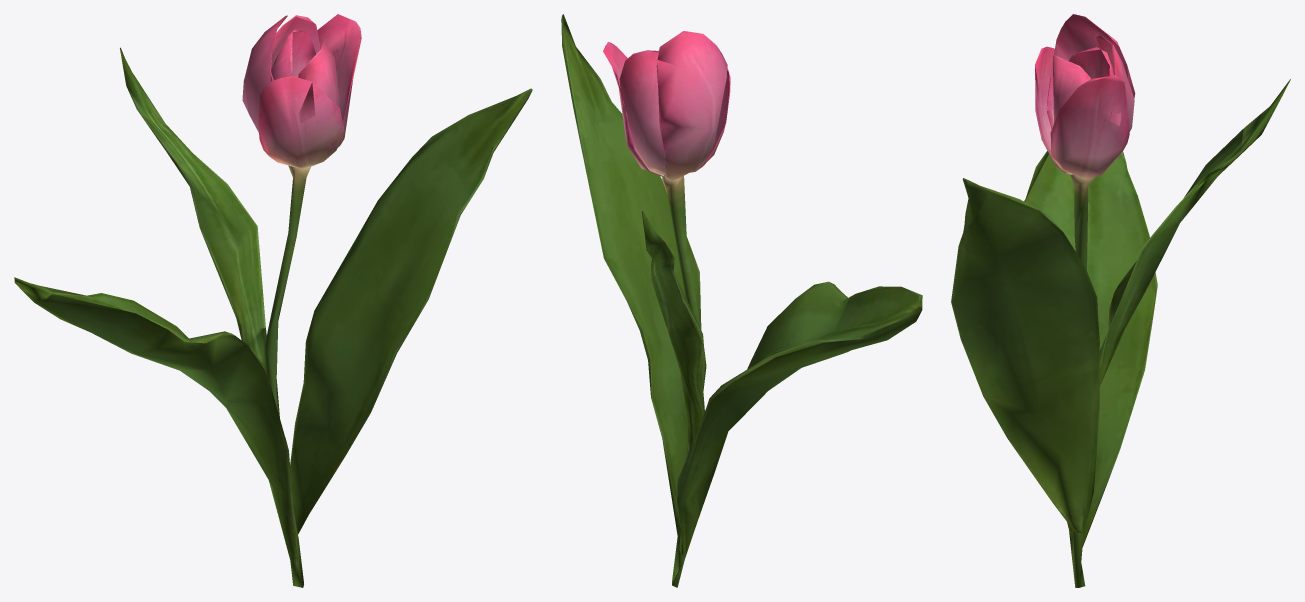
Rendered from lale-pembe.glb.
3 views of the same model, side by side, from view 1: azimuth 30°, elevation 25°; view 2: azimuth 150°, elevation 25°; view 3: azimuth 270°, elevation 25° (orthographic). The views are drawn at different scales.
Visible parts, largest first — view 1: Object_5; view 2: Object_5; view 3: Object_5.
Boxes of the visible parts, left/top/right/bottom form: Object_5: left=14, top=14, right=532, bottom=587; Object_5: left=561, top=14, right=922, bottom=587; Object_5: left=951, top=14, right=1290, bottom=587.
Size of the model in its own units: 0.0296 by 0.0366 by 0.0199.
Materials: 1 (1 with a texture image).
